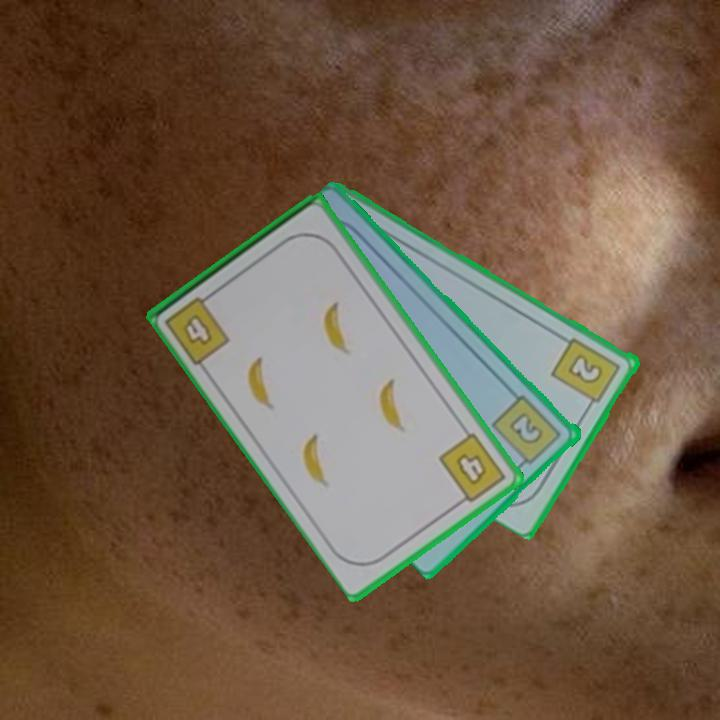2b: (489, 391, 565, 472), (548, 334, 624, 413)
4b: (435, 429, 509, 509), (161, 287, 234, 368)
